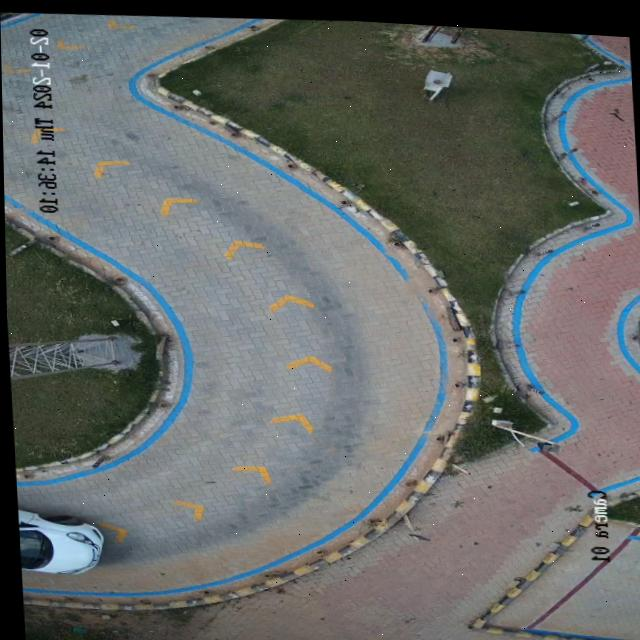car: (16, 509, 100, 572)
